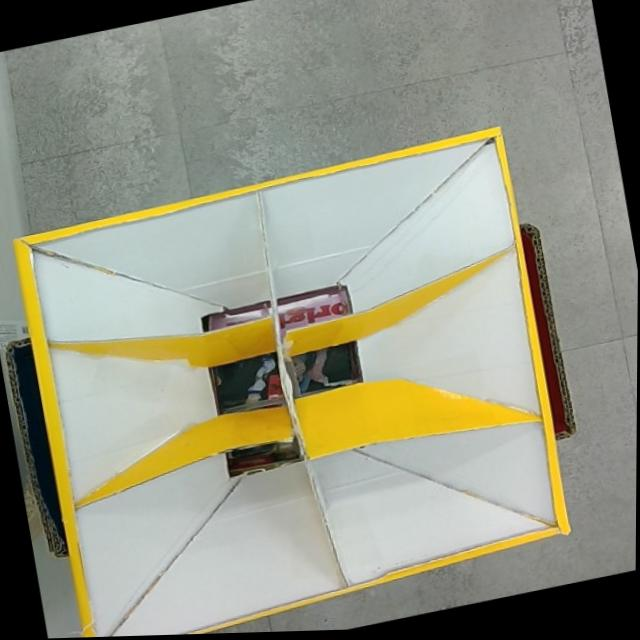box: (0, 124, 600, 640)
